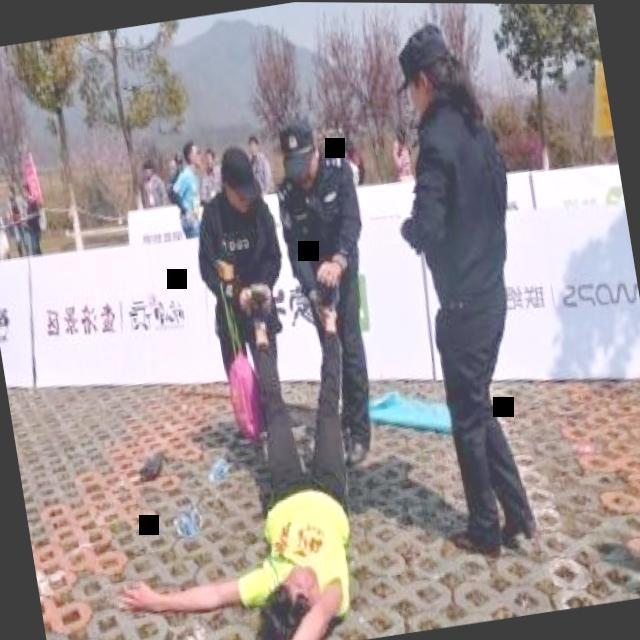Fall-Detected: (69, 274, 427, 640)
